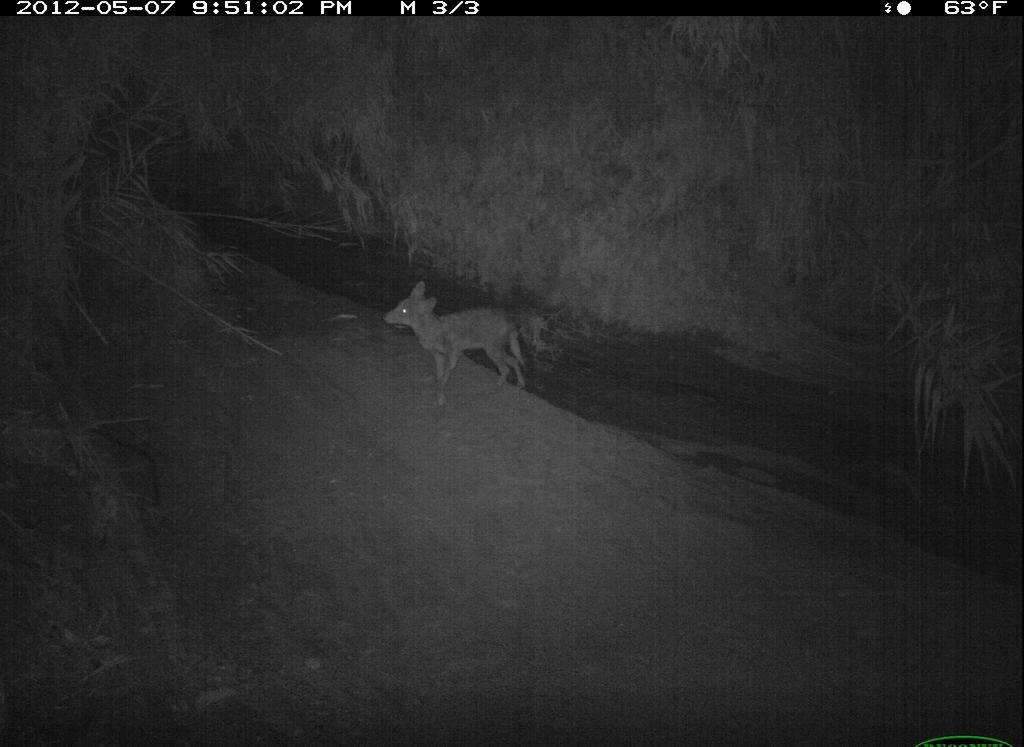coyote: (761, 550, 1024, 747)
